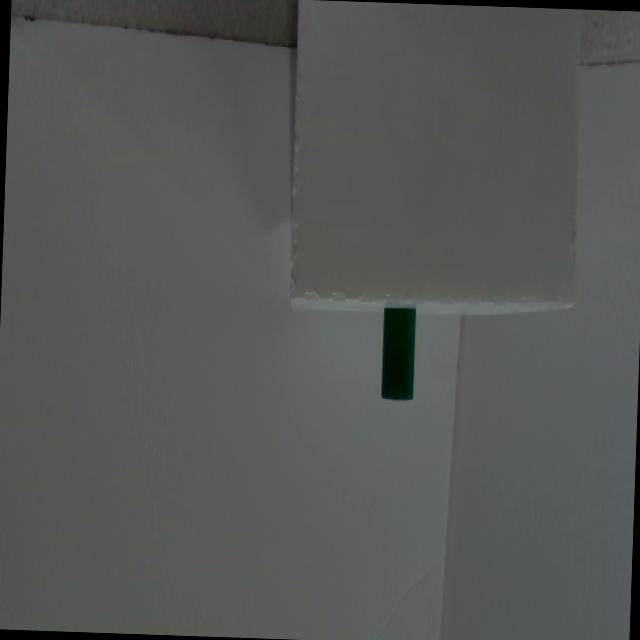green_cylinder: (381, 306, 416, 401)
